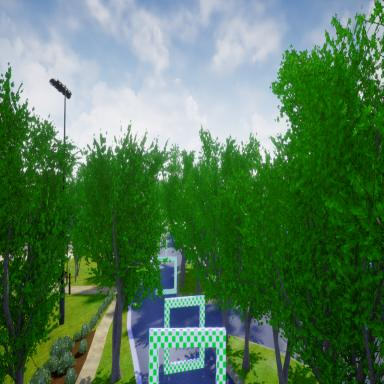gate: (164, 294, 205, 375)
